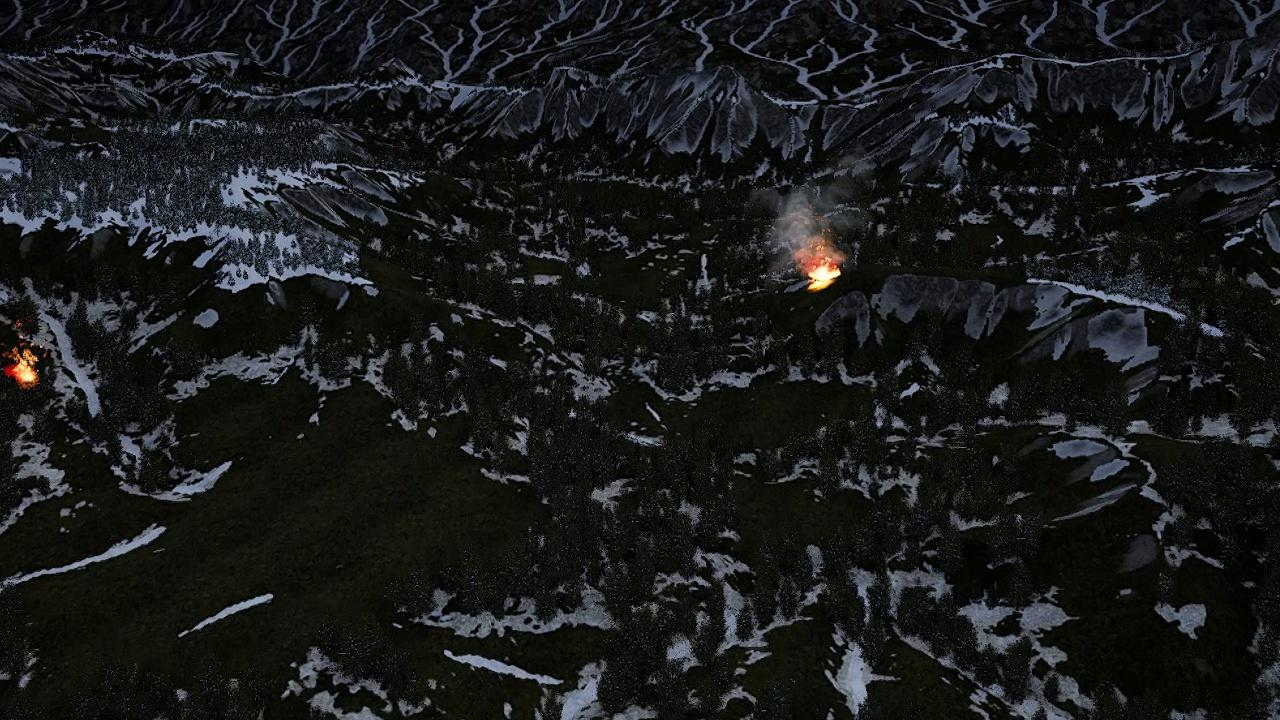fire: (0, 316, 38, 384), (810, 263, 842, 289)
smoke: (746, 151, 883, 280)
